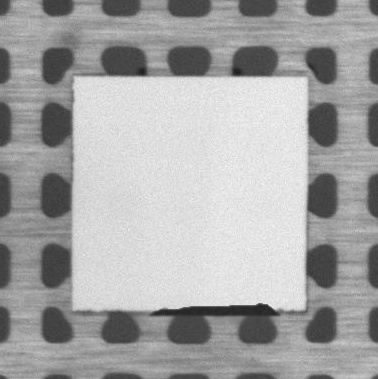DIE_BROKEN: (149, 297, 283, 316)
